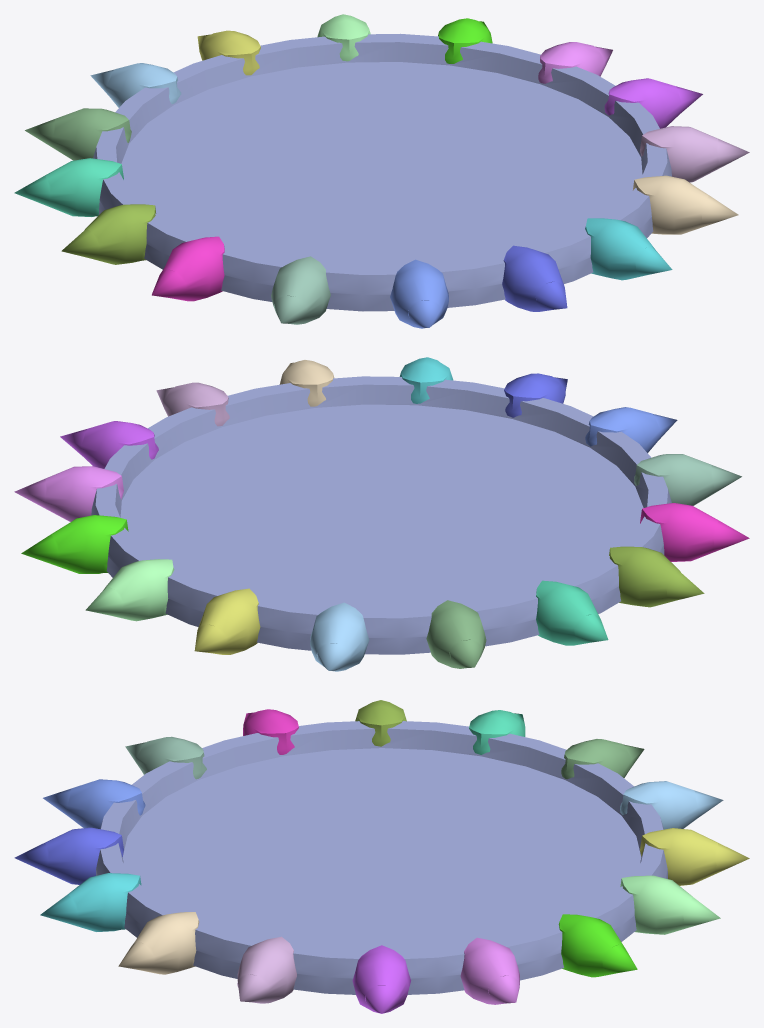
The picture shows the model from 3 angles, top to bottom: view 1: azimuth 30°, elevation 25°; view 2: azimuth 150°, elevation 25°; view 3: azimuth 270°, elevation 25°; orthographic projection.
Parts seen in each view (by area): view 1: Object_2, Object_2.008, Object_2.012, Object_2.016, Object_2.011, Object_2.009, Object_2.007, Object_2.006, Object_2.015, Object_2.010, Object_2.014, Object_2.020 (+5 smaller); view 2: Object_2, Object_2.008, Object_2.013, Object_2.005, Object_2.009, Object_2.011, Object_2.019, Object_2.017, Object_2.014, Object_2.018, Object_2.015, Object_2.020 (+5 smaller); view 3: Object_2, Object_2.005, Object_2.016, Object_2.012, Object_2.013, Object_2.019, Object_2.007, Object_2.006, Object_2.017, Object_2.020, Object_2.018, Object_2.010 (+5 smaller).
Part boxes in pixels (x1,y1,x2,y2): Object_2: [93, 33, 671, 311]; Object_2.008: [61, 204, 156, 264]; Object_2.012: [632, 175, 738, 234]; Object_2.016: [585, 218, 672, 280]; Object_2.011: [14, 158, 123, 216]; Object_2.009: [152, 236, 224, 301]; Object_2.007: [502, 245, 567, 311]; Object_2.006: [640, 126, 749, 182]; Object_2.015: [271, 256, 330, 324]; Object_2.010: [390, 259, 448, 328]; Object_2.014: [25, 108, 131, 160]; Object_2.020: [604, 78, 702, 128]; Object_2: [91, 376, 671, 654]; Object_2.008: [609, 546, 704, 607]; Object_2.013: [21, 515, 128, 573]; Object_2.005: [85, 559, 174, 621]; Object_2.009: [640, 503, 749, 561]; Object_2.011: [536, 580, 608, 645]; Object_2.019: [194, 588, 260, 654]; Object_2.017: [14, 466, 123, 521]; Object_2.014: [426, 600, 486, 668]; Object_2.018: [310, 602, 369, 671]; Object_2.015: [634, 454, 741, 505]; Object_2.020: [60, 421, 158, 468]; Object_2: [96, 721, 667, 994]; Object_2.005: [620, 875, 720, 934]; Object_2.016: [40, 873, 141, 931]; Object_2.012: [118, 912, 199, 974]; Object_2.013: [558, 914, 637, 977]; Object_2.019: [640, 828, 749, 885]; Object_2.007: [14, 827, 123, 884]; Object_2.006: [237, 936, 296, 1003]; Object_2.017: [460, 937, 519, 1004]; Object_2.020: [352, 945, 410, 1013]; Object_2.018: [620, 781, 723, 829]; Object_2.010: [43, 779, 145, 828].
Size of the model in its own units: 1 by 0.0834 by 1.
